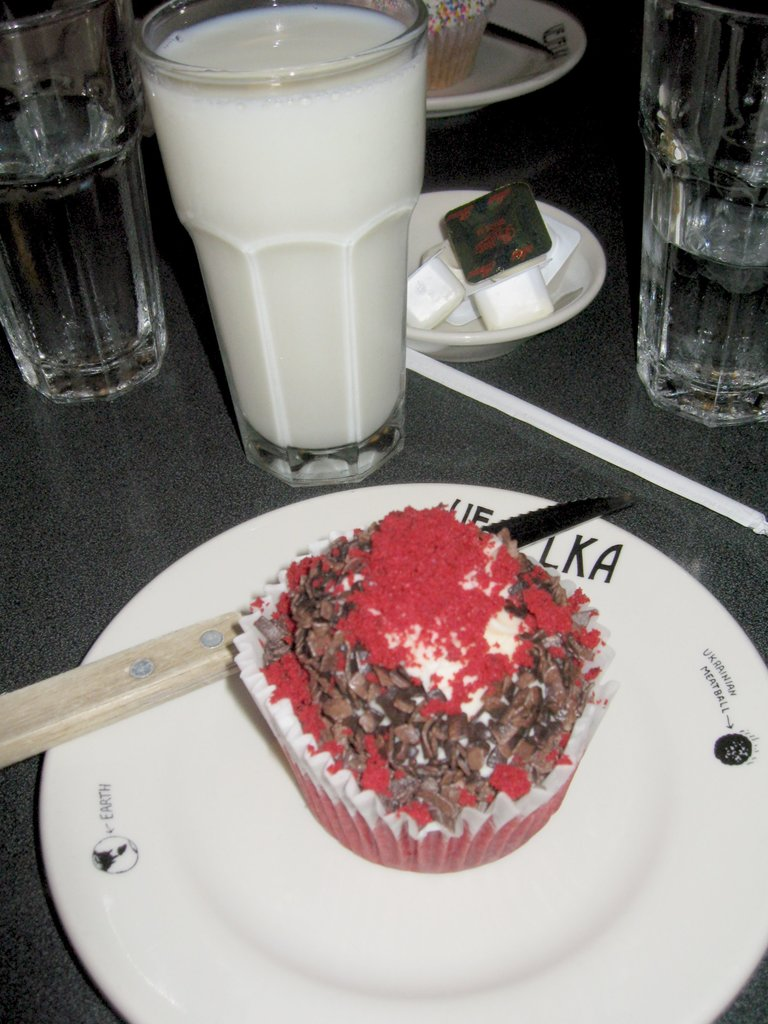plate: (96, 434, 691, 1011)
